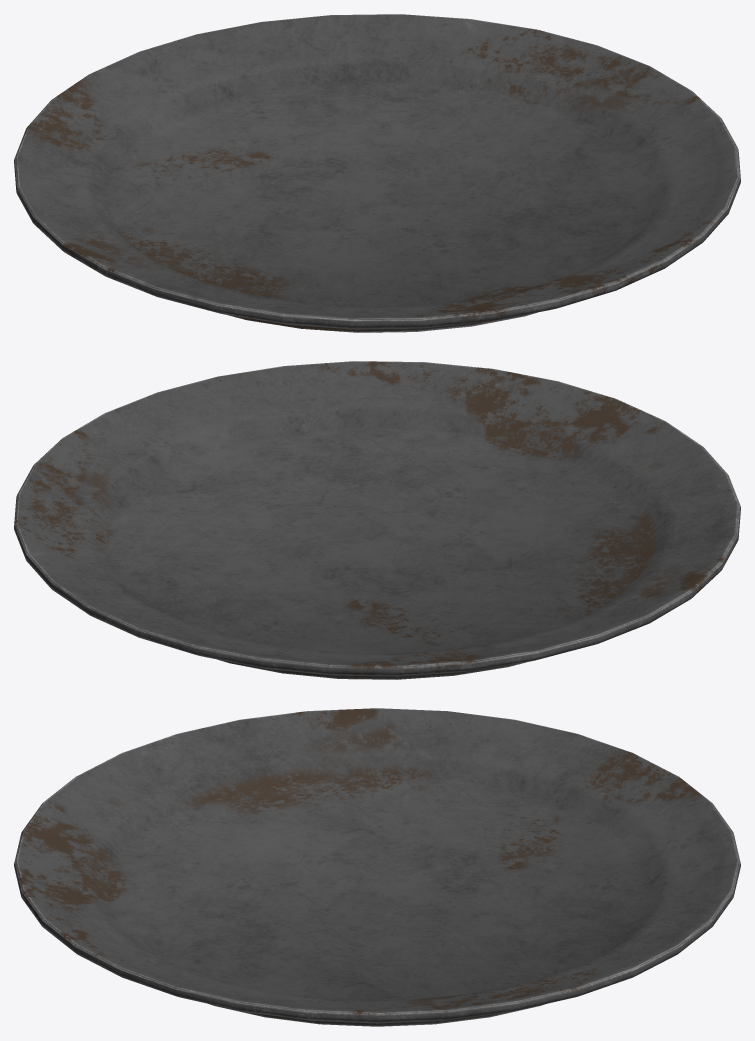
The model's file is SM_Plate_00.fbx.
The picture shows the model from 3 angles, top to bottom: view 1: azimuth 30°, elevation 25°; view 2: azimuth 150°, elevation 25°; view 3: azimuth 270°, elevation 25°; orthographic projection.
Visible parts, largest first — view 1: SM_Plate_00; view 2: SM_Plate_00; view 3: SM_Plate_00.
Boxes of the visible parts, x1,y1,x2,y2 form: SM_Plate_00: [14, 14, 740, 332]; SM_Plate_00: [14, 361, 740, 679]; SM_Plate_00: [14, 708, 740, 1026].
Bounding box in the file's own units: 45.69 × 45.69 × 2.88.
